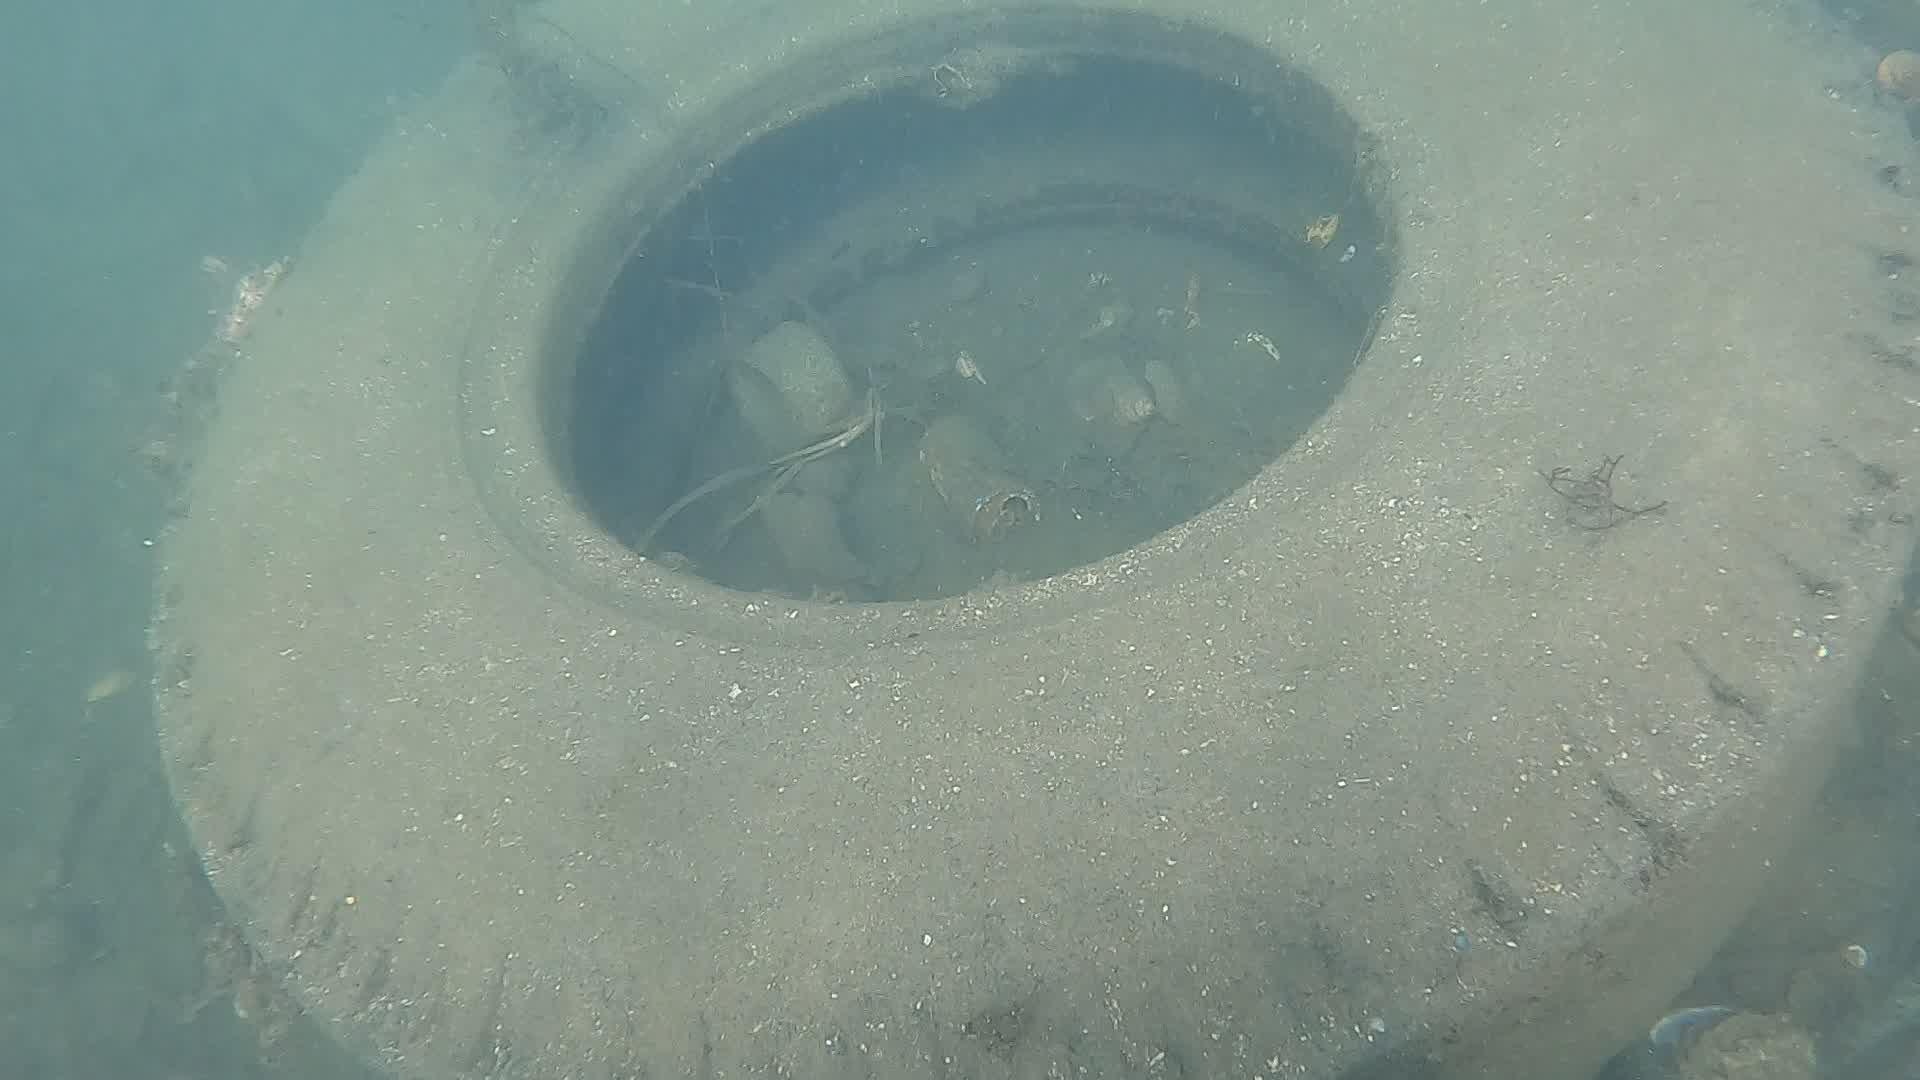tire: (157, 7, 1920, 1080)
